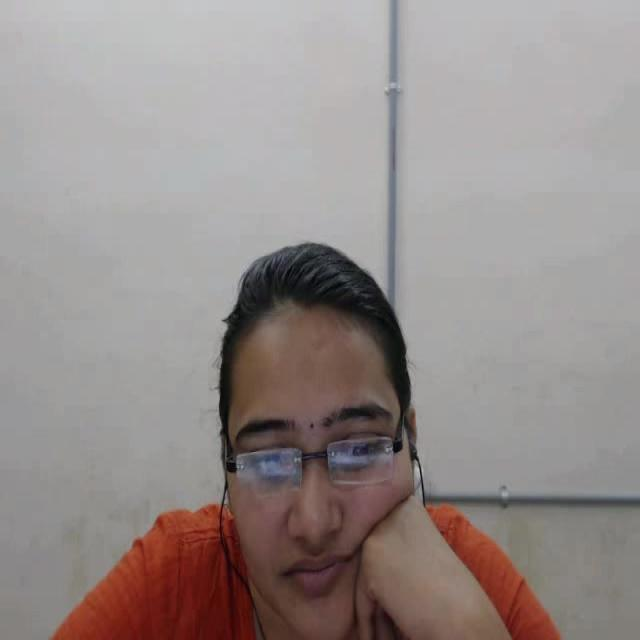Bored: (192, 233, 433, 640)
